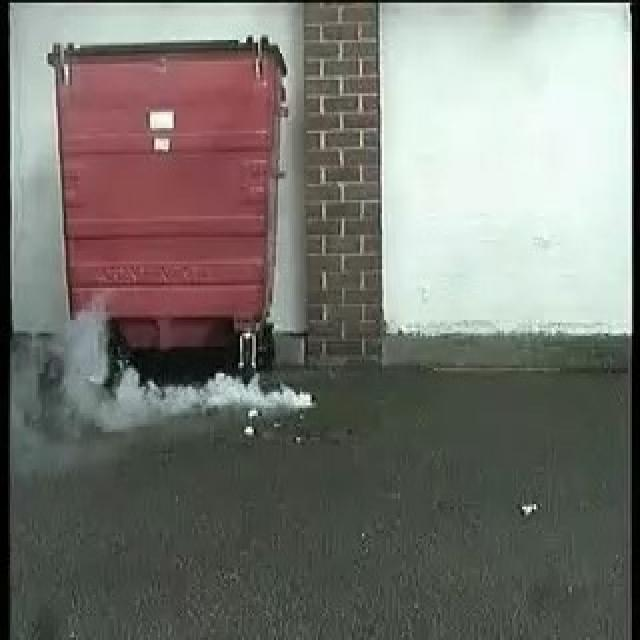smoke: (60, 303, 328, 426)
